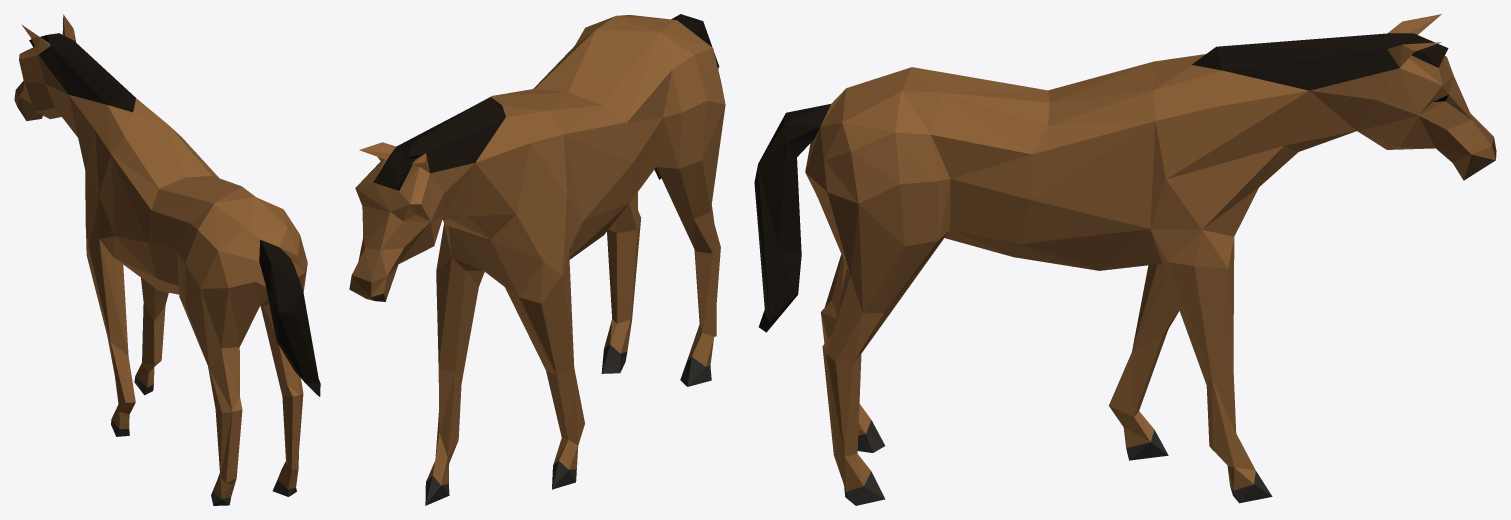
File: horse-relaxed.glb
3 renders of one model, left to right at view 1: azimuth 30°, elevation 25°; view 2: azimuth 150°, elevation 25°; view 3: azimuth 270°, elevation 25°, orthographic. The views are drawn at different scales.
Parts seen in each view (by area): view 1: horse-relaxed; view 2: horse-relaxed; view 3: horse-relaxed.
Boxes of the visible parts, x1,y1,x2,y2 form: horse-relaxed: (14, 14, 320, 505); horse-relaxed: (349, 14, 725, 505); horse-relaxed: (754, 14, 1496, 505).
Bounding box in the file's own units: 3.02 × 8.71 × 13.02.
